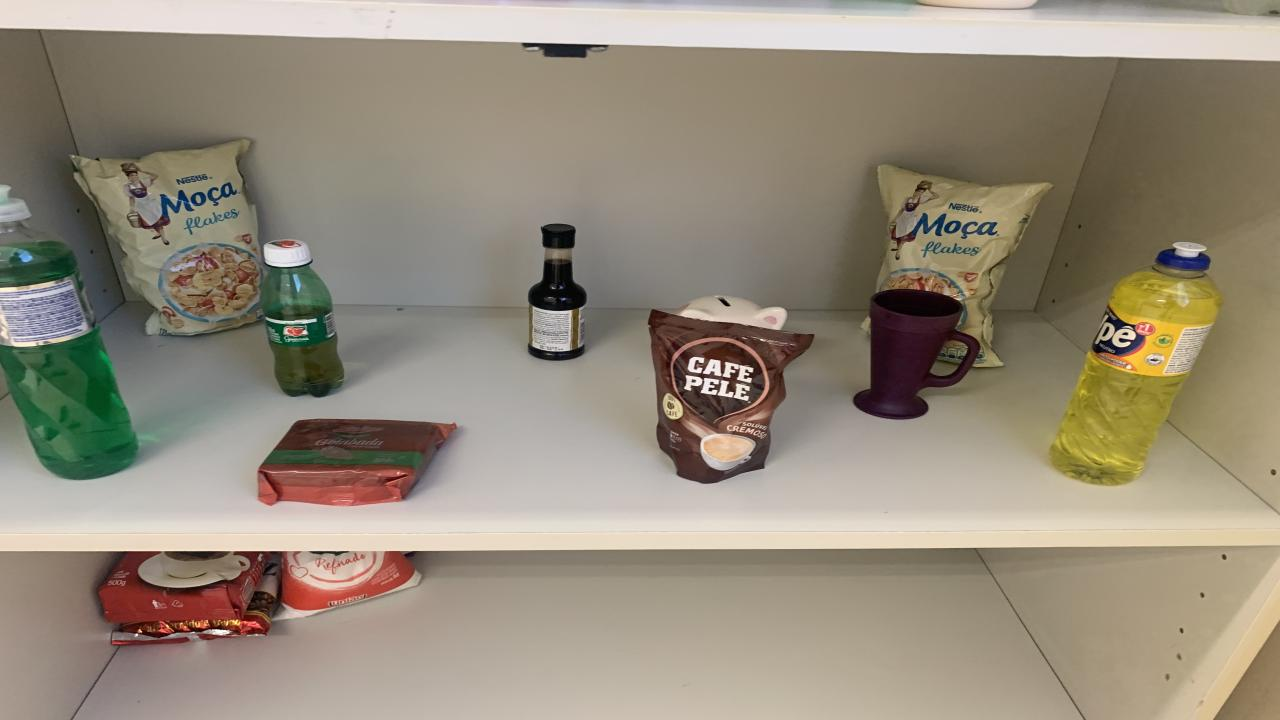Coffee-Pantry_Items: (648, 309, 815, 484)
Detergent-Cleanup_Items: (1050, 242, 1222, 486), (0, 186, 138, 480)
English_Sauce-Pantry_Items: (528, 223, 588, 360)
Flakes-Snacks: (72, 139, 262, 336), (878, 165, 1052, 368), (938, 343, 965, 364), (862, 319, 870, 332)
Guarana-Drinks: (260, 240, 345, 398)
Guava-Snacks: (258, 418, 458, 506)
Mayonnaise-Pantry_Items: (918, 0, 1038, 9)
Pig_Safe-Miscellaneous: (675, 296, 788, 330)
